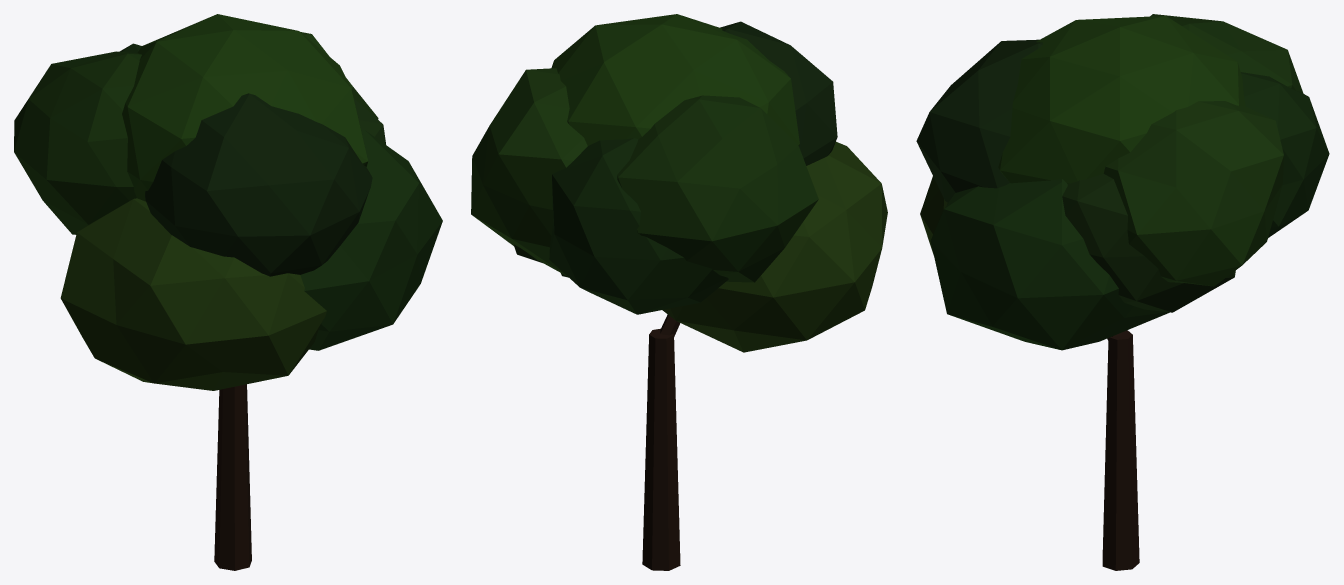
Rendered from tree_broadleaf.fbx.
3 views of the same model, side by side, from view 1: azimuth 30°, elevation 25°; view 2: azimuth 150°, elevation 25°; view 3: azimuth 270°, elevation 25° (orthographic).
Parts seen in each view (by area): view 1: tree_broadleaf; view 2: tree_broadleaf; view 3: tree_broadleaf.
Part boxes in pixels (<box>): tree_broadleaf: <box>14,14,442,570</box>; tree_broadleaf: <box>471,14,887,570</box>; tree_broadleaf: <box>916,14,1329,570</box>.
Bounding box in the file's own units: 5.28 × 7.89 × 5.51.
